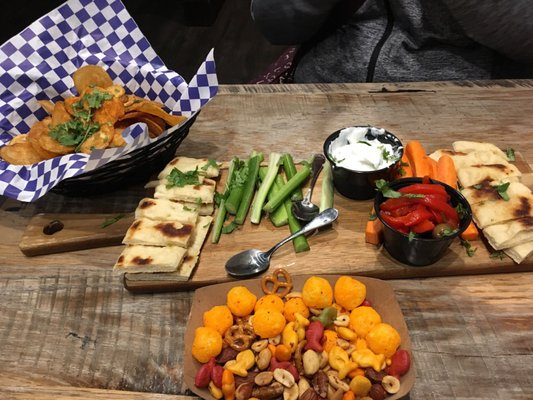salad: (224, 208, 339, 277)
sushi: (186, 272, 416, 400), (375, 176, 476, 267), (323, 126, 405, 201)
